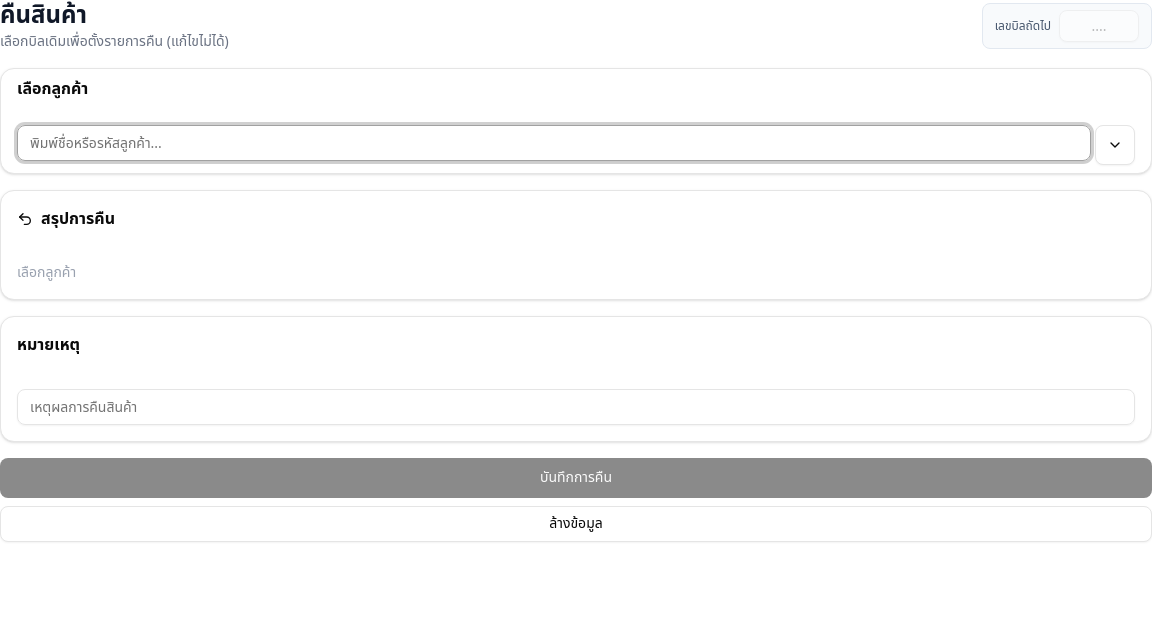
returns page › labels invoice-credit bills and explains invoice-net return behavior
What coordinates should you click on to do the following:
click the button named "เปิดรายชื่อลูกค้า (เรียง ก-ฮ)"
I would click on:
 (1115, 145)
Its box is [1095,125,1135,165].
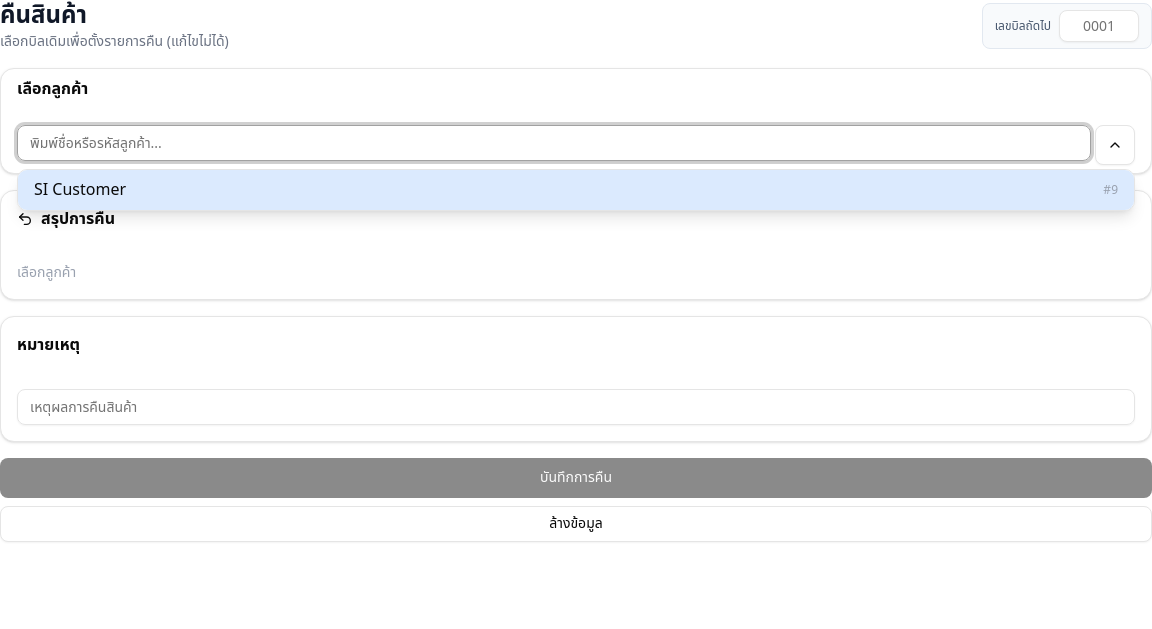
Now the button "SI Customer #9" is shown
What coordinates should you click on to do the following:
click the button "SI Customer #9"
I would click on:
 (80, 190)
Its box is [18,170,1134,210].
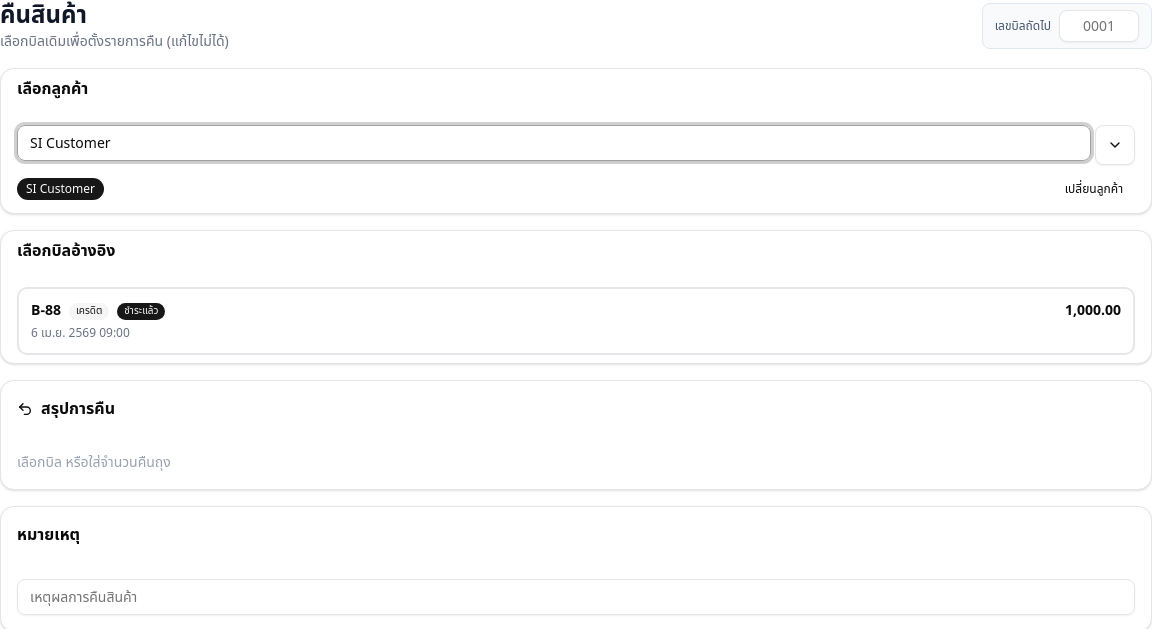
Now the text "B-88" is shown, box [31,301,61,321]
Now the text "เครดิต" is shown, box [69,302,109,320]
What coordinates should you click on to do the following:
click the button "B-88 เครดิต ชำระแล้ว 1,000.00 6 เม.ย. 2569 09:00"
I would click on:
 (89, 311)
Its box is [17,287,1135,355].
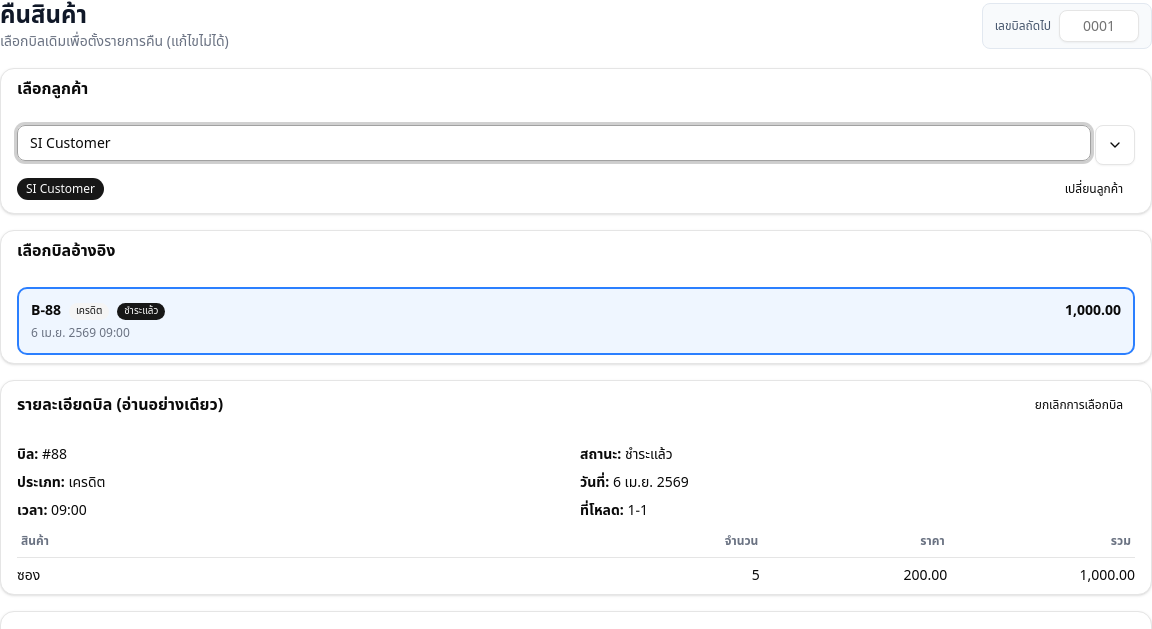
Now the text "ประเภท:" is shown, box [17,472,65,493]
